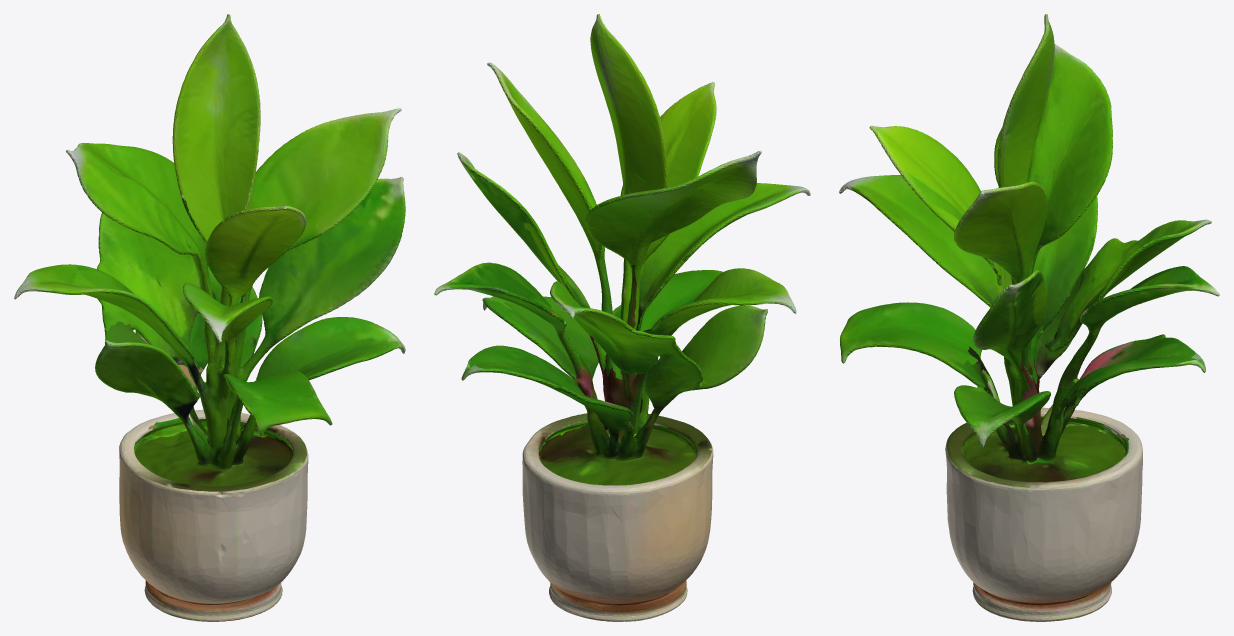
File: biomechanical-growth-planter-generated-2026-04-18T02-10-29-603Z.low.glb
3 renders of one model, left to right at view 1: azimuth 30°, elevation 25°; view 2: azimuth 150°, elevation 25°; view 3: azimuth 270°, elevation 25°, orthographic. The views are drawn at different scales.
Parts seen in each view (by area): view 1: temp_mesh.ply; view 2: temp_mesh.ply; view 3: temp_mesh.ply.
Part boxes in pixels (bbox=[...]): temp_mesh.ply: bbox=[14, 14, 405, 621]; temp_mesh.ply: bbox=[434, 14, 810, 621]; temp_mesh.ply: bbox=[839, 14, 1219, 621].
Bounding box in the file's own units: 1.3 × 1.97 × 1.16.
Materials: 1 (1 with a texture image).
